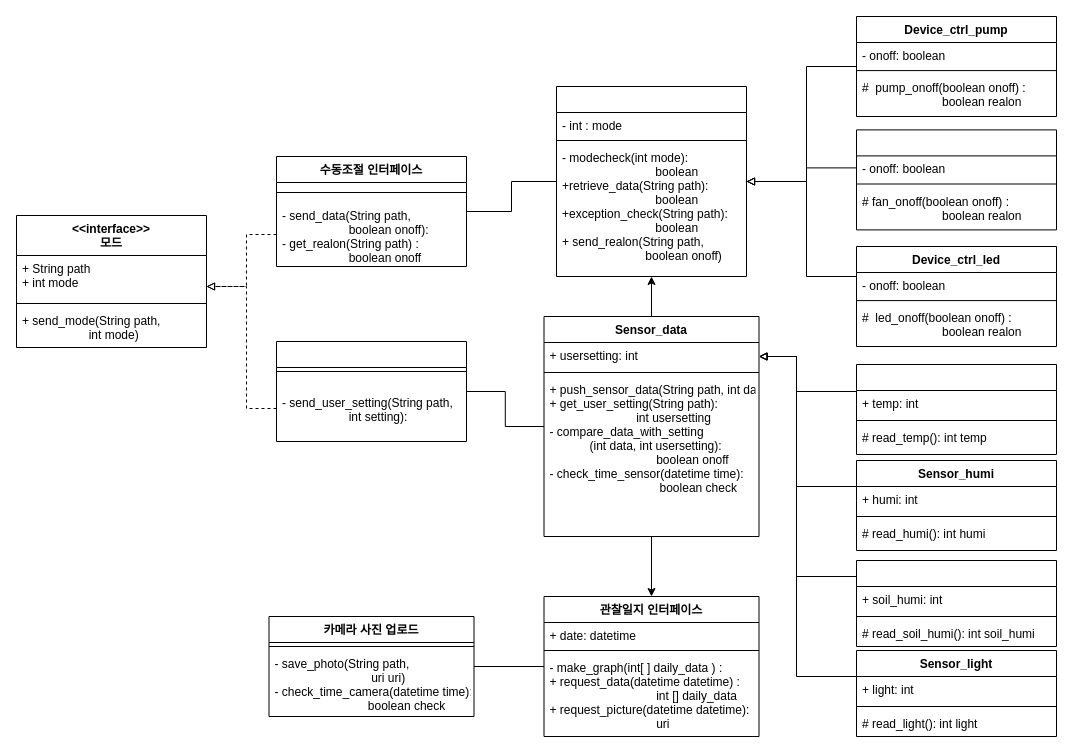
Image size: 1073x753. Some labels were removed from this diagram. The box of each missing label's shape, as (x1, y1, x2, y2) in pixels:
Device_ctrl: (556, 86, 746, 276)
Device_ctrl_fan: (856, 129, 1056, 230)
Sensor_soil_humi: (856, 560, 1056, 646)
Sensor_temp: (856, 364, 1056, 454)
자동조절 인터페이스: (276, 340, 466, 442)
